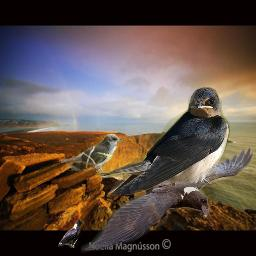Crow: (81, 146, 254, 253), (58, 219, 84, 248)
Cuckoo: (61, 133, 124, 171)
Swallow: (95, 87, 230, 195)
